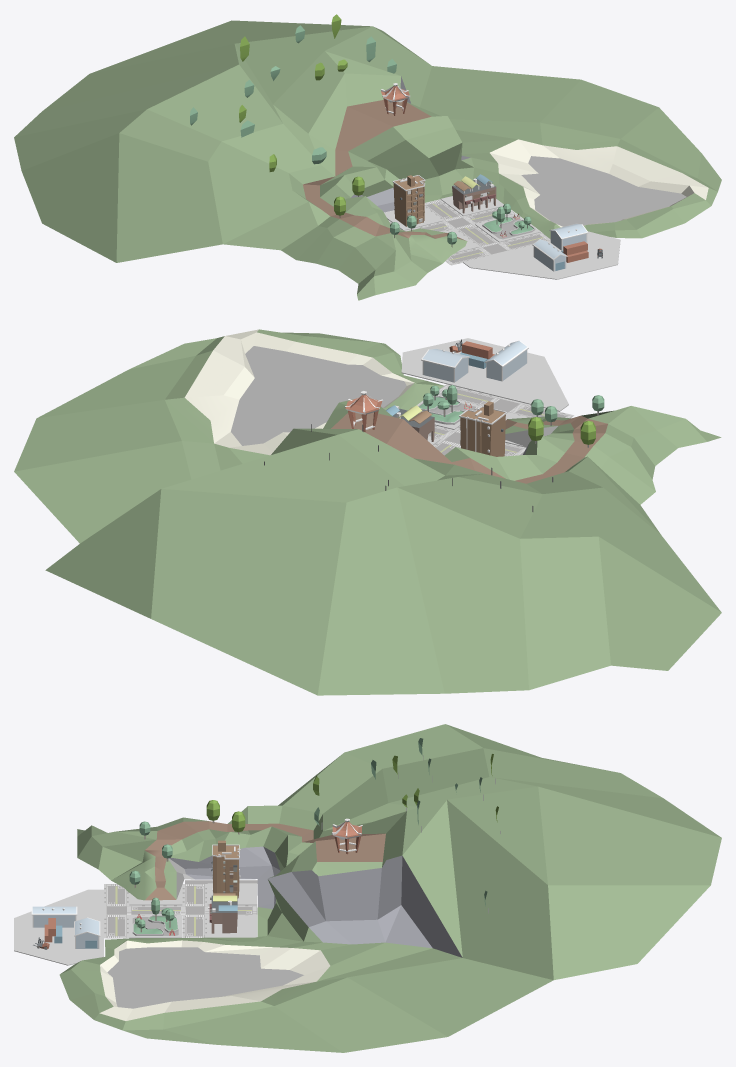
The model's file is world tow sides check2.gltf.
3 renders of one model, top to bottom at view 1: azimuth 30°, elevation 25°; view 2: azimuth 150°, elevation 25°; view 3: azimuth 270°, elevation 25°, orthographic. The views are drawn at different scales.
Visible parts, largest first — view 1: pCube4, polySurface84, polySurface69, apartment09:pCube27, pPlane36, polySurface26, pasted__polySurface85, pasted__polySurface95, pPlane19; view 2: pCube4, polySurface84, apartment09:pCube27, polySurface69, pasted__polySurface95, pasted__polySurface85, polySurface26, pPlane36, pPlane19; view 3: pCube4, polySurface84, polySurface69, apartment09:pCube27, polySurface26, pPlane36, pasted__polySurface85, polySurface19, pasted__polySurface95, pPlane19, polySurface23.
Boxes of the visible parts, x1,y1,x2,y2 form: pCube4: (14,20,721,300); polySurface84: (463,231,620,279); polySurface69: (190,14,456,247); apartment09:pCube27: (392,175,425,226); pPlane36: (452,174,496,213); polySurface26: (475,214,540,242); pasted__polySurface85: (532,239,567,271); pasted__polySurface95: (549,223,588,250); pPlane19: (381,83,410,115); pCube4: (14,329,721,695); polySurface84: (401,338,568,411); apartment09:pCube27: (459,401,507,456); polySurface69: (264,395,604,511); pasted__polySurface95: (421,348,470,382); pasted__polySurface85: (484,340,528,381); polySurface26: (416,395,481,429); pPlane36: (386,405,434,441); pPlane19: (344,391,382,431); pCube4: (59,724,721,1052); polySurface84: (14,889,103,965); polySurface69: (129,738,500,913); apartment09:pCube27: (211,840,240,898); polySurface26: (129,915,181,938); pPlane36: (208,893,237,933); pasted__polySurface85: (31,906,77,927); polySurface19: (207,915,257,937); pasted__polySurface95: (74,917,100,948); pPlane19: (331,818,362,854); polySurface23: (207,883,257,905).
Size of the model in its own units: 46.09 by 10.24 by 46.25.
